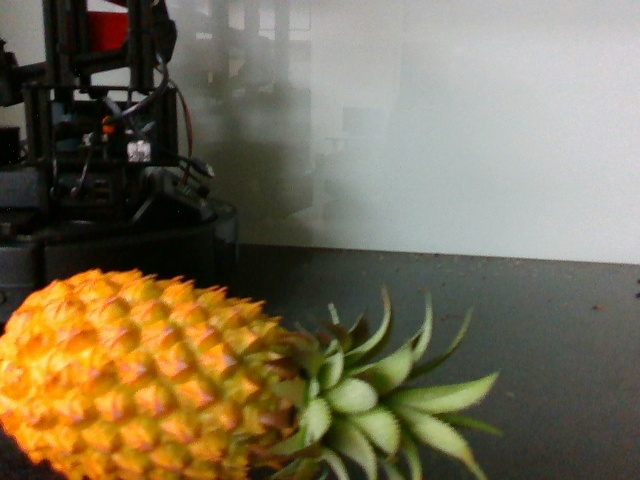pineapple: (2, 264, 500, 480)
